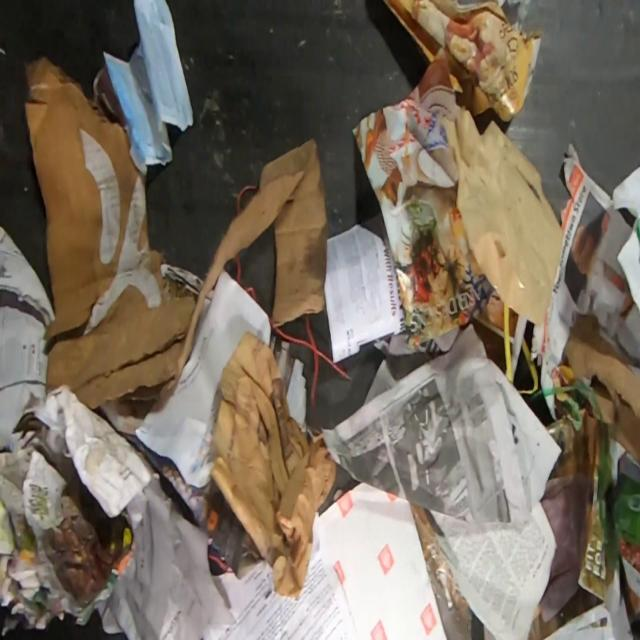cardboard: (23, 52, 199, 419), (162, 135, 330, 393), (383, 0, 541, 124), (563, 310, 640, 465)
